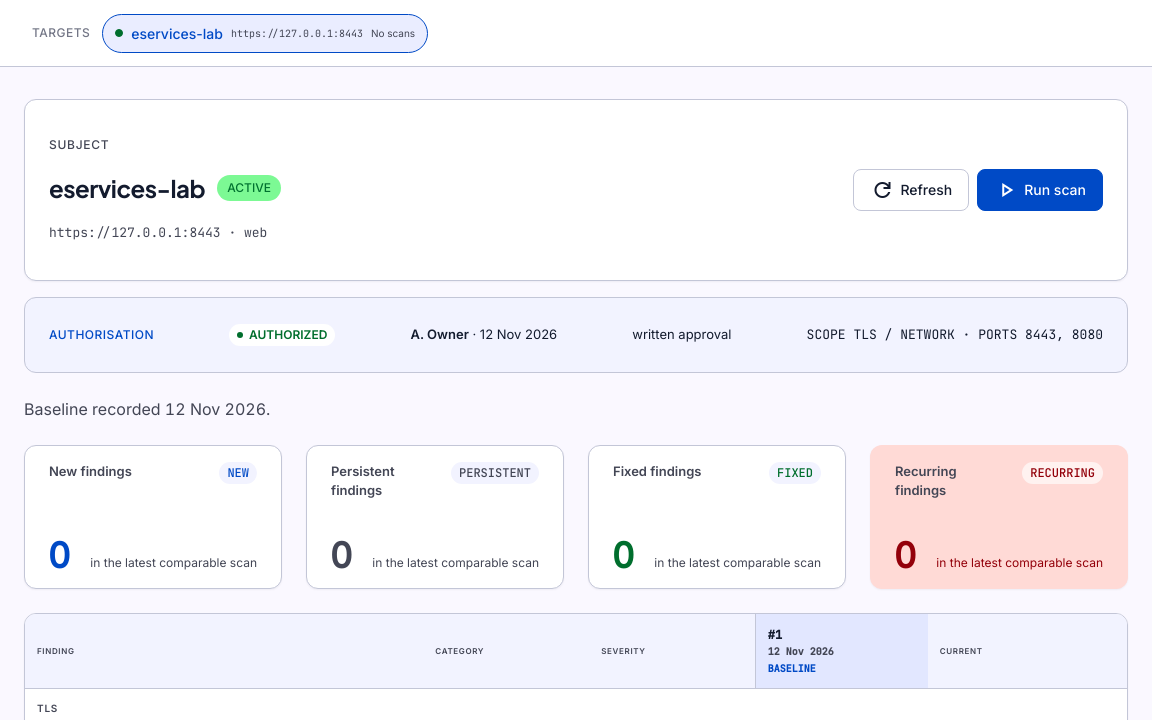
Drift › queues a scan and reloads once
This screenshot has width=1152, height=720.
Expected: the heading "eservices-lab" is shown, x1=49 y1=170 x2=205 y2=206
What coordinates should you click on to do the following:
click the button "Run scan"
I would click on:
 (1040, 190)
Its box is x1=977 y1=169 x2=1103 y2=211.
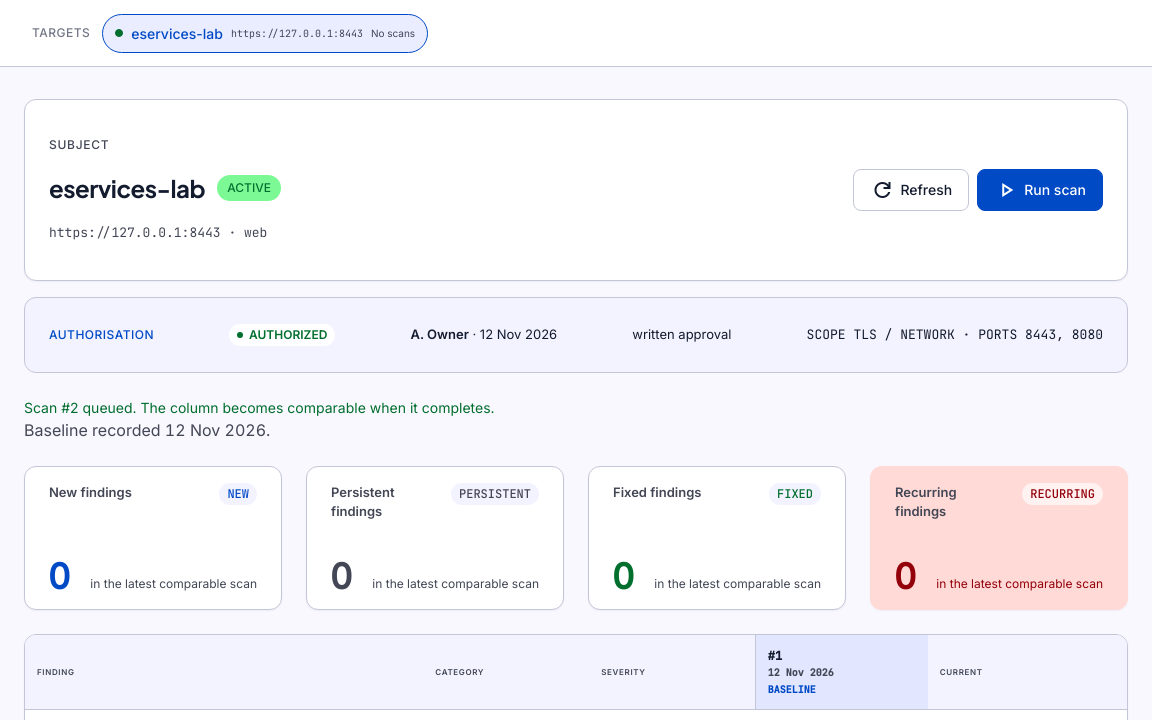
Result: the message shows "Scan #2 queued" at x1=24 y1=398 x2=495 y2=416
